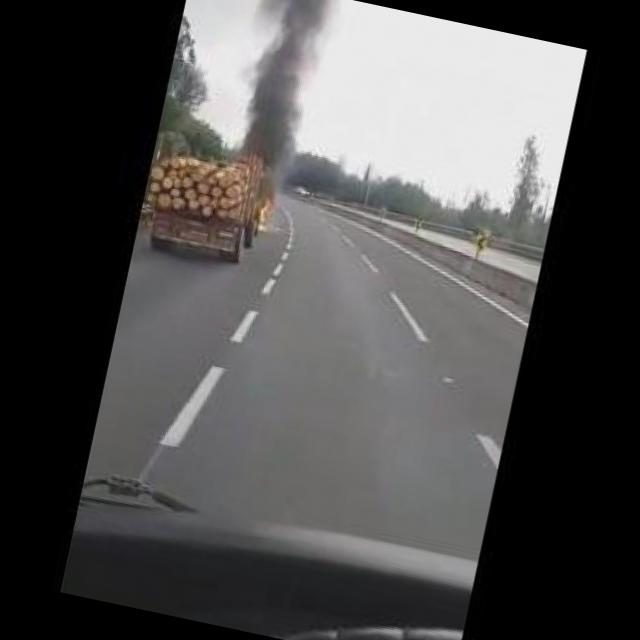fire: (253, 198, 276, 230)
smoke: (225, 0, 341, 181)
